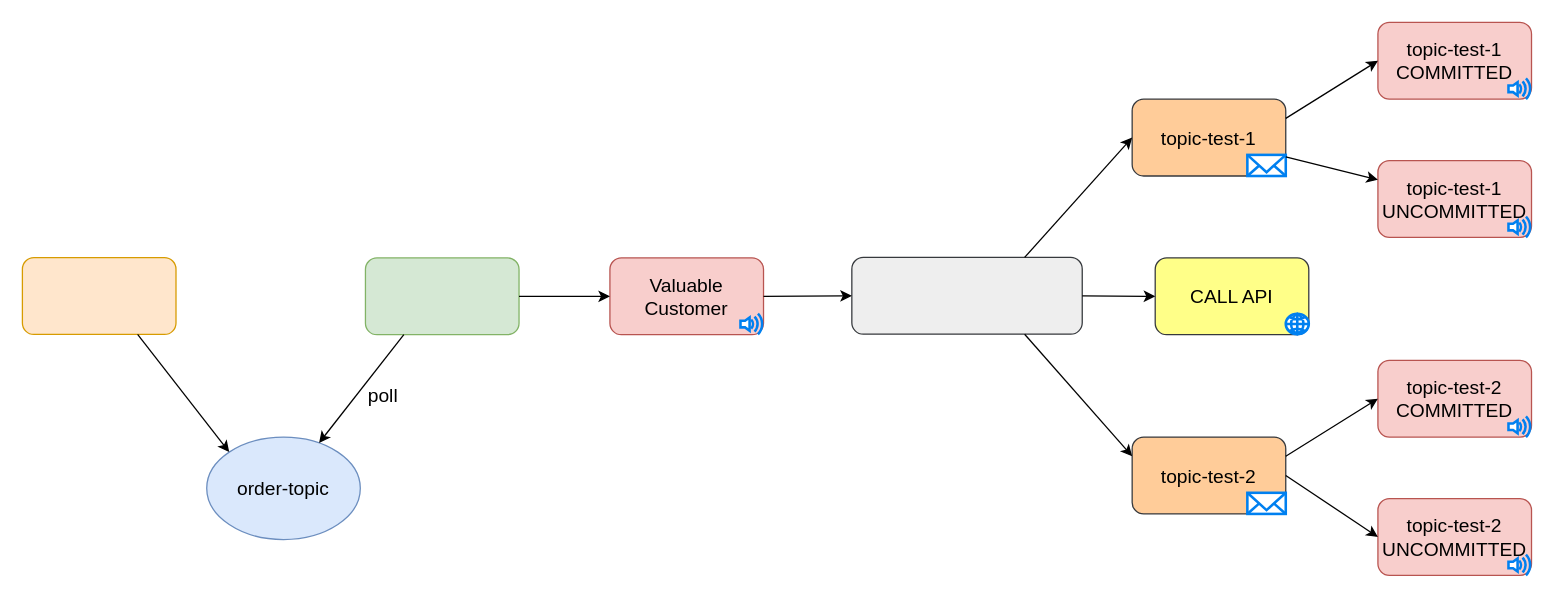
The diagram is 1555 pixels wide and 599 high, and some of its shapes have lost their labels. The shapes that lost their labels are listed below. From the top down, each one's centre as x and y in pixels, then its label:
pixel 98 295: Producer
pixel 441 296: KafkaStreams
pixel 966 295: Transactional/ NonTransactional Service
